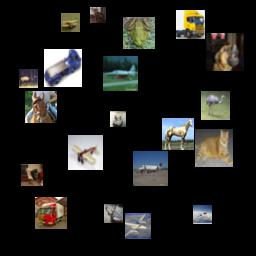airplane: (68, 135, 103, 170), (103, 56, 138, 91), (133, 151, 168, 186), (125, 213, 151, 239), (193, 205, 212, 224), (61, 13, 80, 32)
bird: (201, 91, 230, 120)
cat: (195, 129, 233, 167), (21, 164, 43, 186), (90, 7, 106, 23)
deer: (19, 69, 38, 88), (104, 204, 123, 223)
dog: (206, 33, 244, 71)
frog: (123, 17, 155, 49)
ship: (110, 111, 126, 127)
truck: (44, 49, 82, 87), (35, 197, 67, 229), (176, 10, 205, 39)
